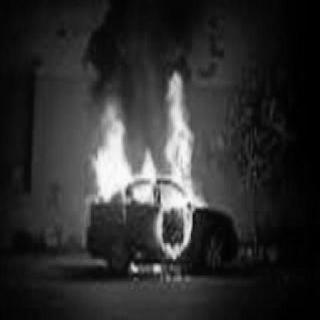Fire: (92, 75, 130, 201), (131, 144, 155, 206)
